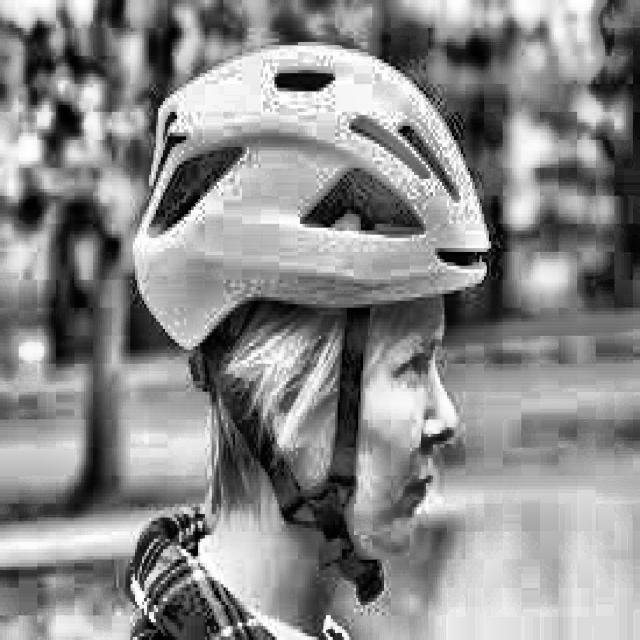Helmet: (130, 48, 488, 588)
